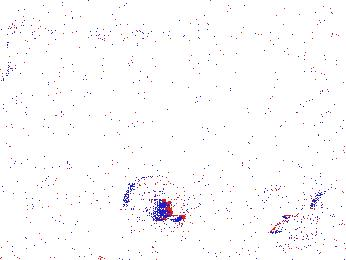flame jellyfish: (269, 187, 346, 248), (127, 175, 188, 234), (1, 44, 14, 83)
